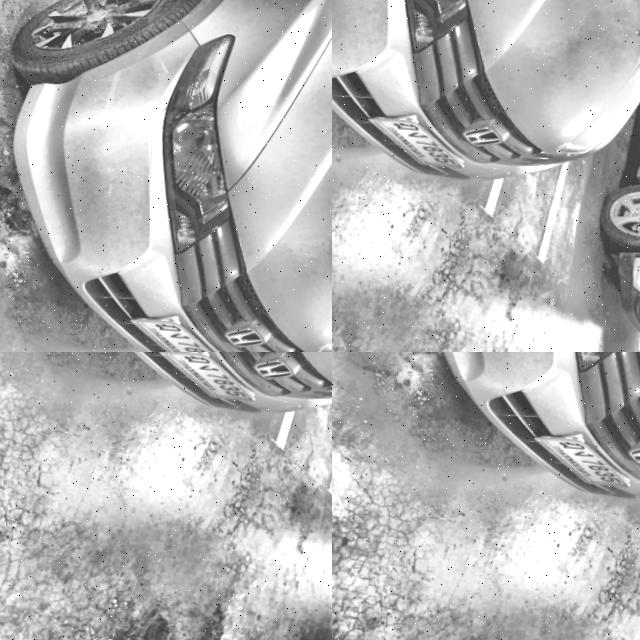license-plate: (332, 0, 439, 157), (522, 432, 628, 494)
